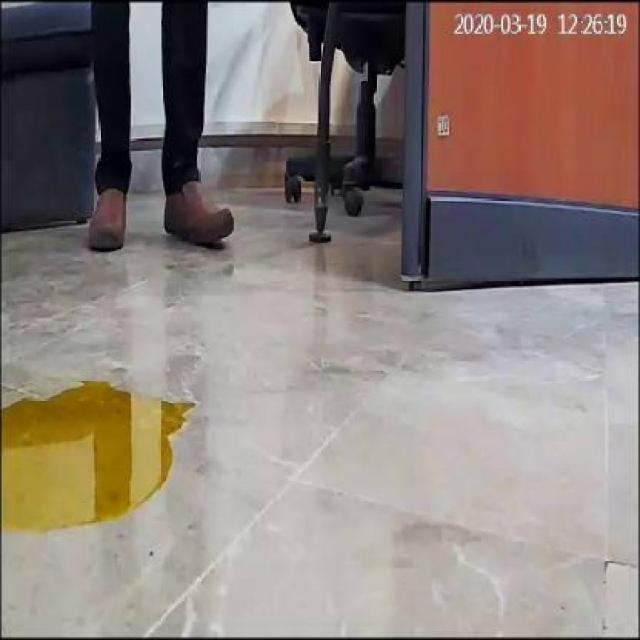spill: (2, 369, 193, 528)
